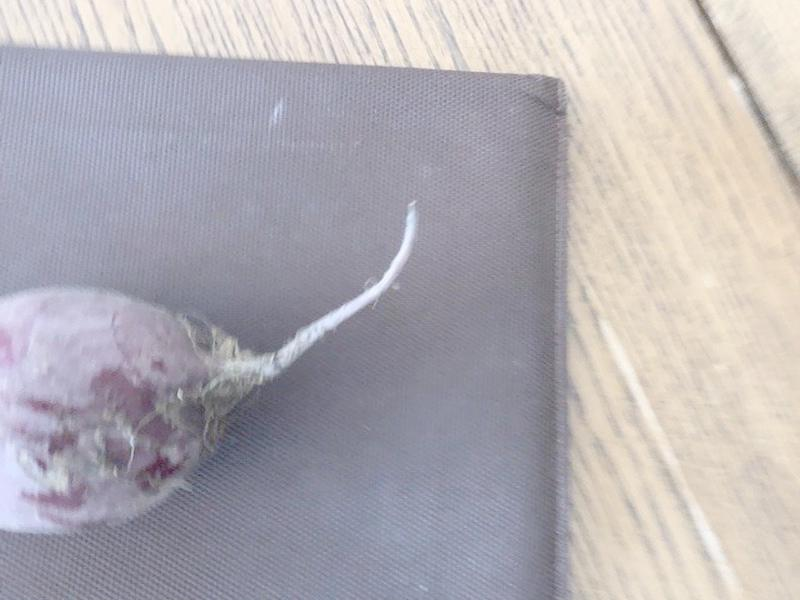Beet: (2, 203, 418, 532)
